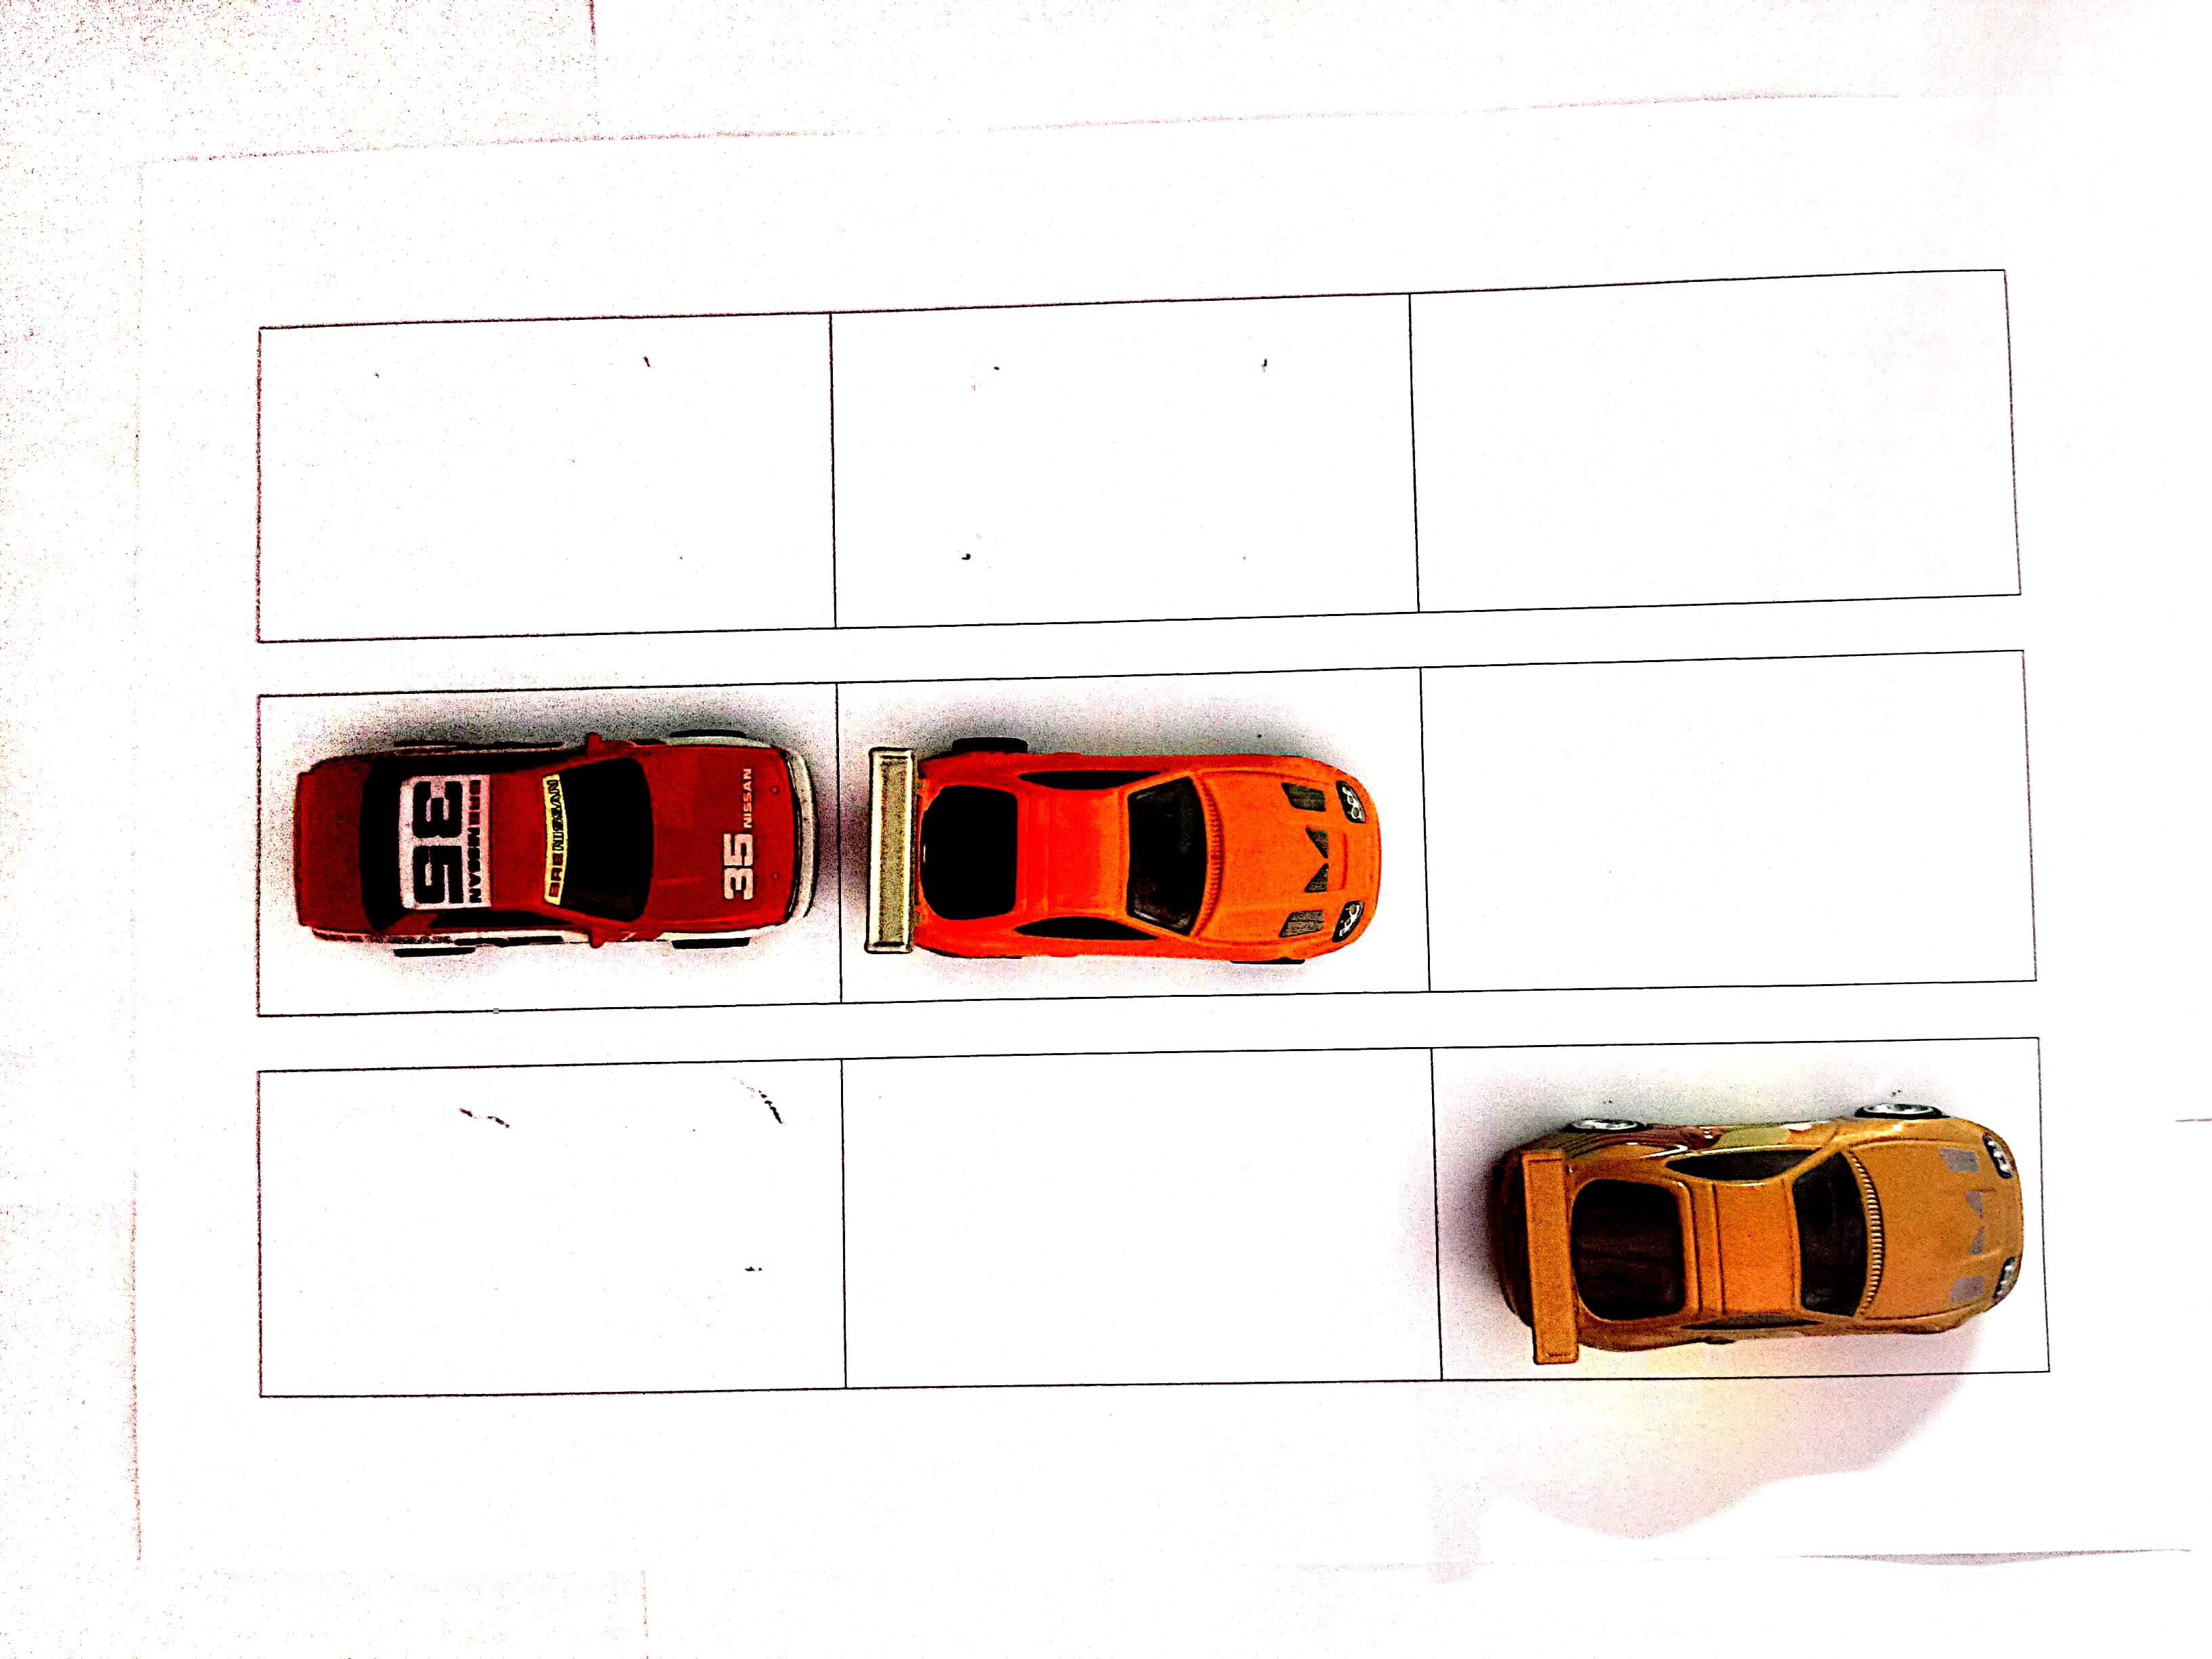Busy: (1432, 1040, 2034, 1378), (265, 680, 834, 1014), (845, 674, 1423, 993)
Free: (840, 1056, 1428, 1389), (1423, 667, 2020, 992), (247, 1061, 834, 1387), (251, 310, 827, 640), (836, 296, 1411, 622), (1425, 284, 2008, 601)
